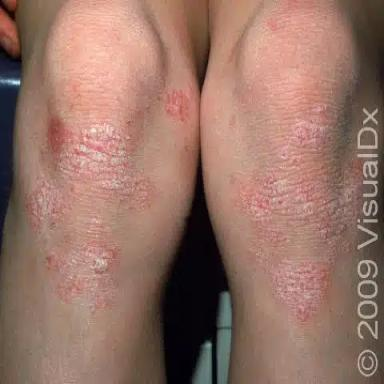Psoriasis: (237, 102, 359, 265), (49, 117, 160, 210), (44, 214, 122, 315), (269, 248, 338, 320), (25, 179, 71, 233), (162, 90, 193, 121)
